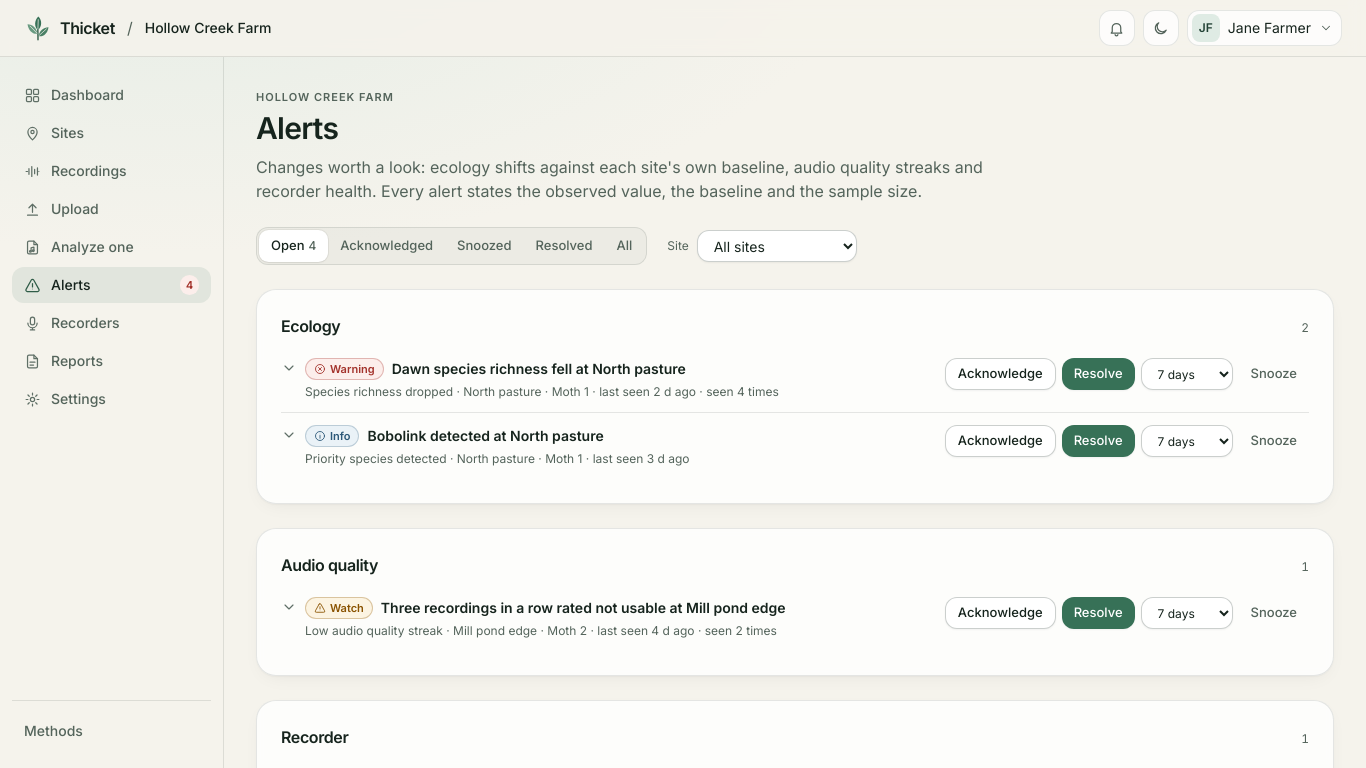
Test: alerts › groups alerts by category and acknowledges one with a PATCH
This screenshot has width=1366, height=768.
expect the list with test id "alerts-quality" is shown: met, box [281,585,1309,651]
What coordinates should you click on to do the following:
click the button that starts with "Warning"
I would click on:
 (607, 379)
Its box is [281,358,933,400].
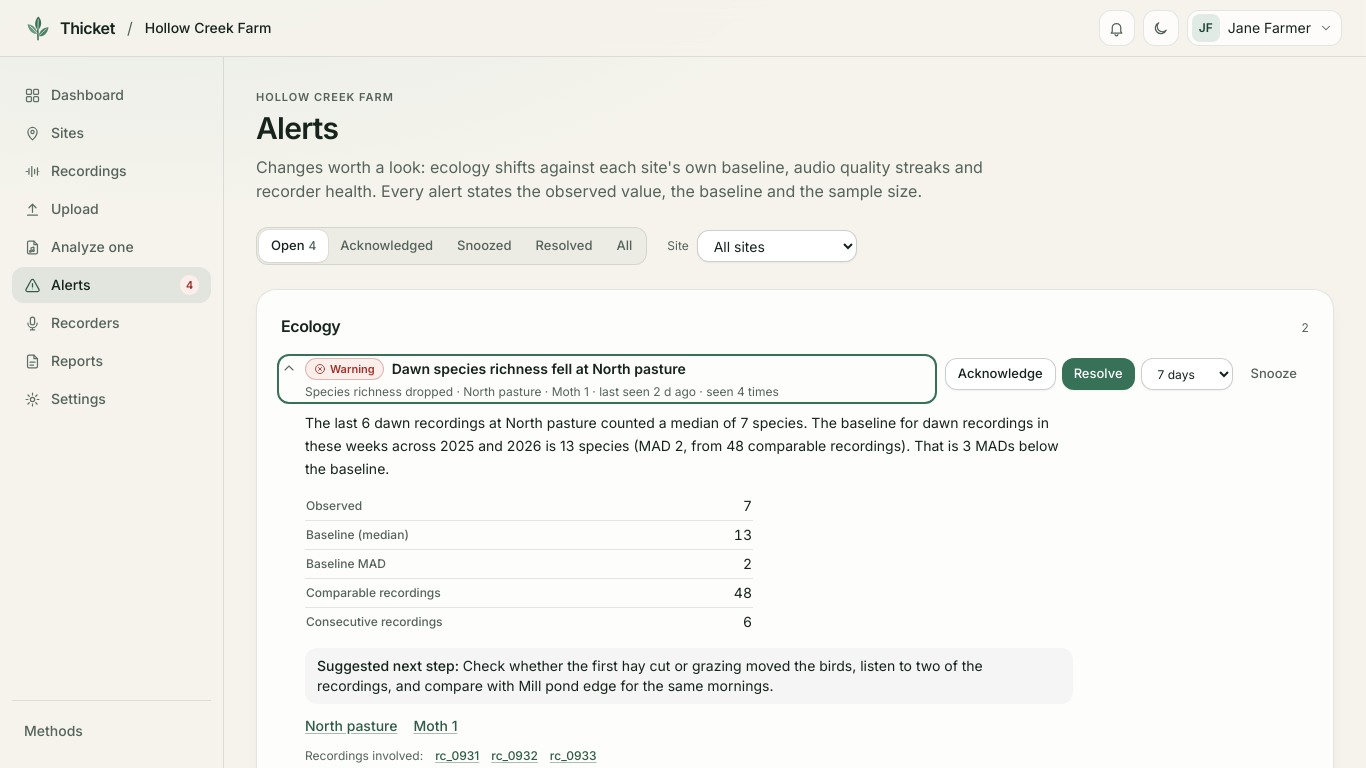
expect the column heading "Baseline (median)" is shown: met, box [305,521,700,550]
expect the text "13" is shown: met, box [700,521,753,550]
expect the text "Suggested next step:" is shown: met, box [317,657,463,674]
What coordinates should you click on to do the following:
click the button "Acknowledge"
I would click on:
 (1000, 374)
Its box is [945,358,1056,390].
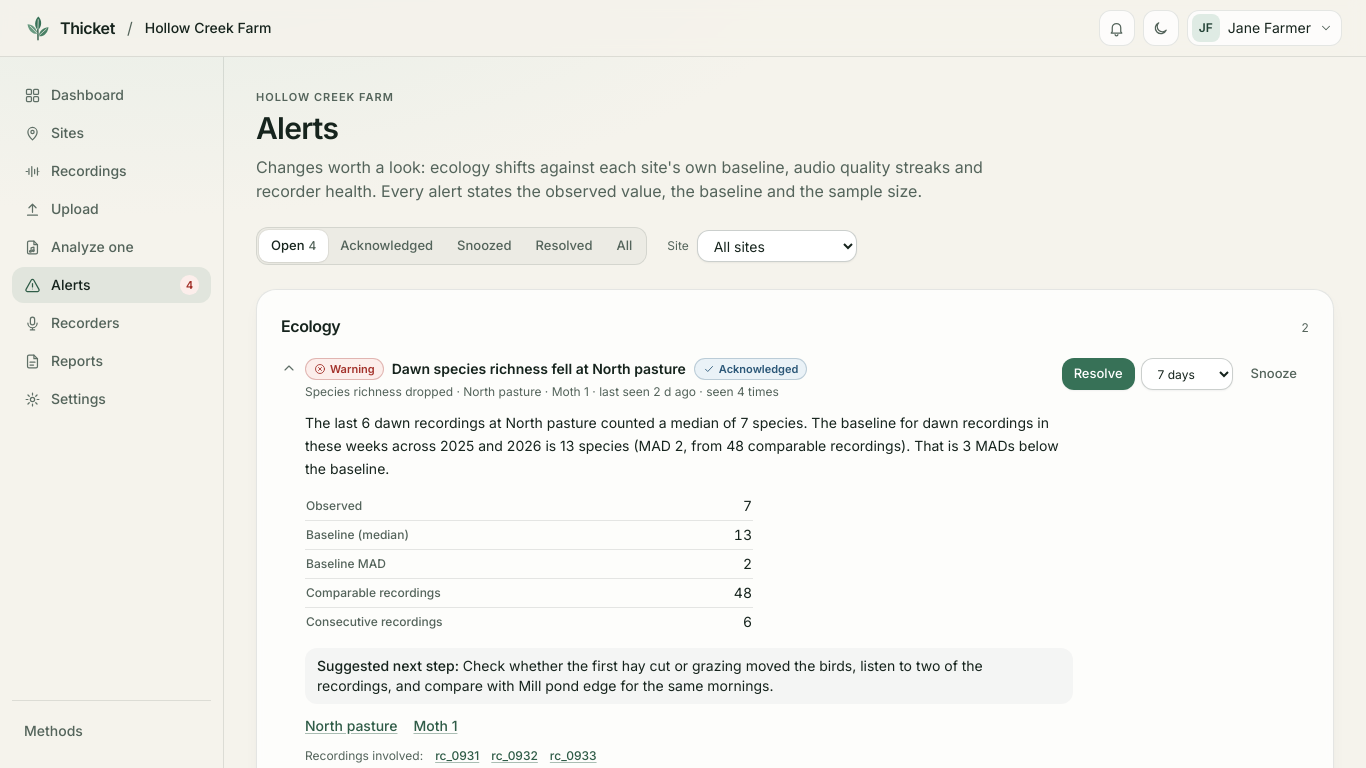
expect the text "Acknowledged" is shown: met, box [694,358,807,380]
